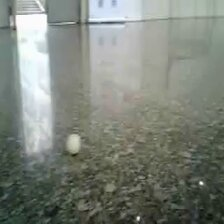w: (64, 133, 83, 156)
